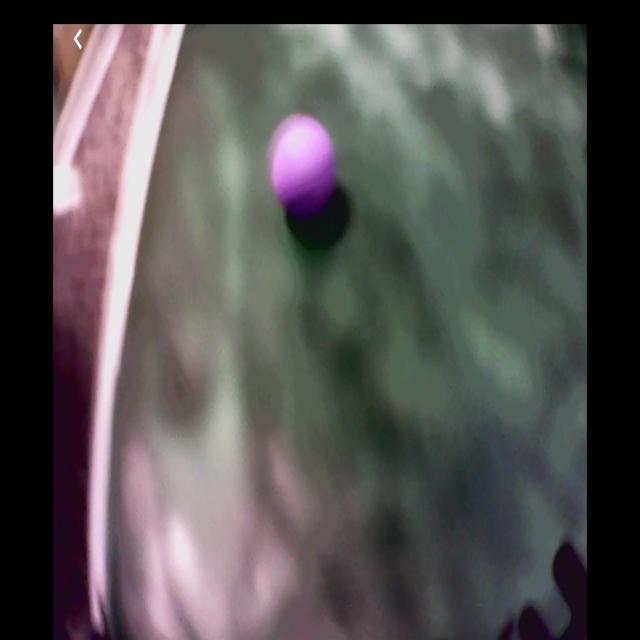ball: (268, 117, 343, 212)
